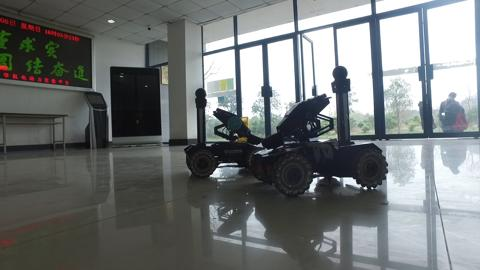chariot: (252, 65, 389, 197), (184, 86, 268, 182)
